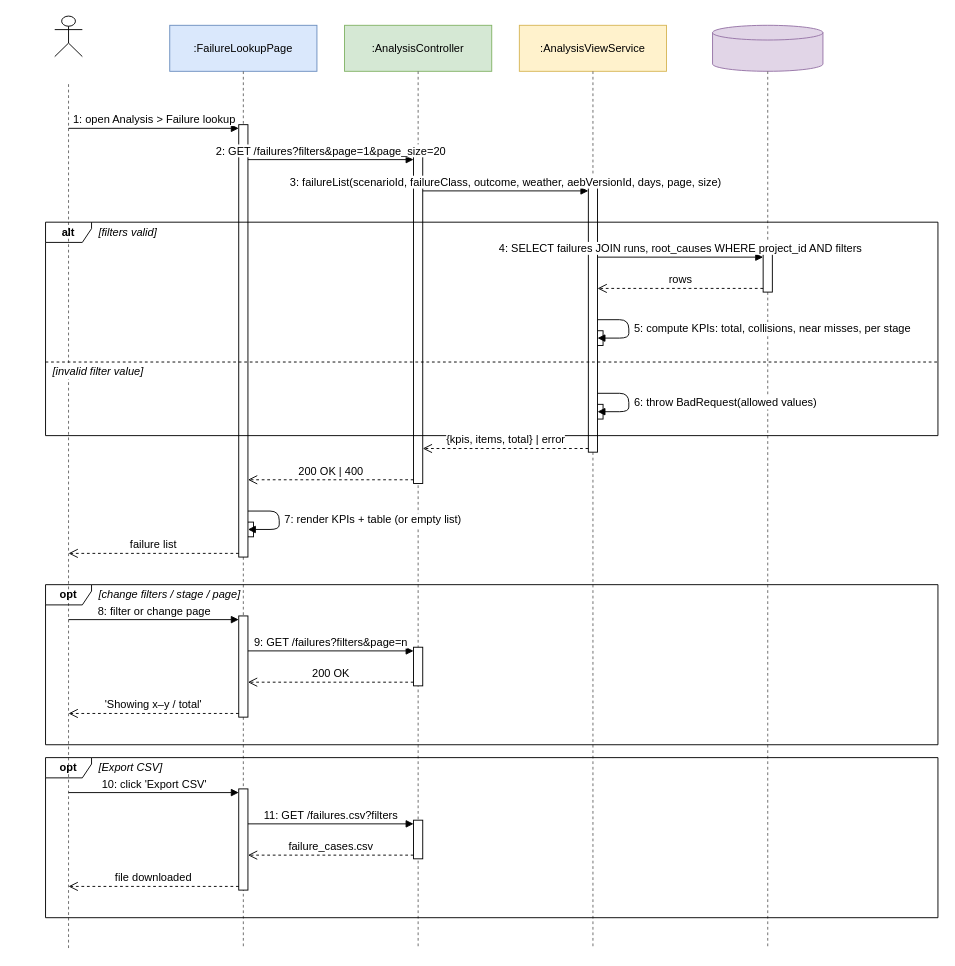
Image size: 955x966. Some labels were removed from this diagram. Each missing label, with the centre of its shape:
Engineer / Reviewer / Experiencer: the point at 68,36
MySQL: the point at 767,47
